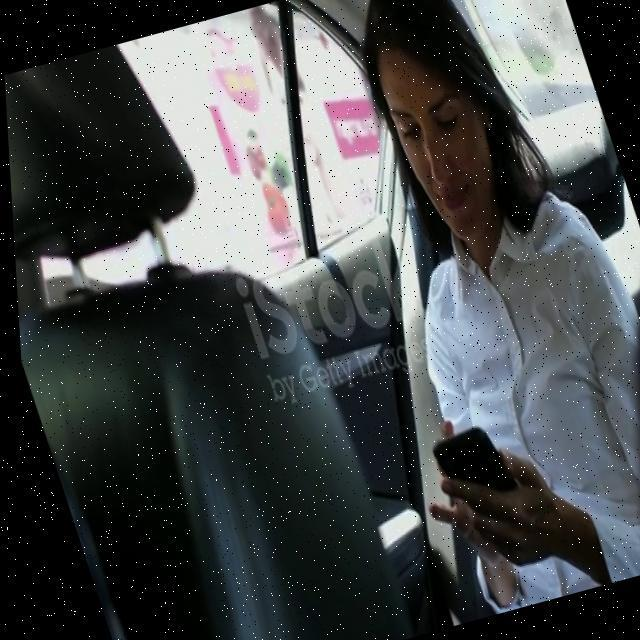PhoneCall: (420, 421, 520, 533)
